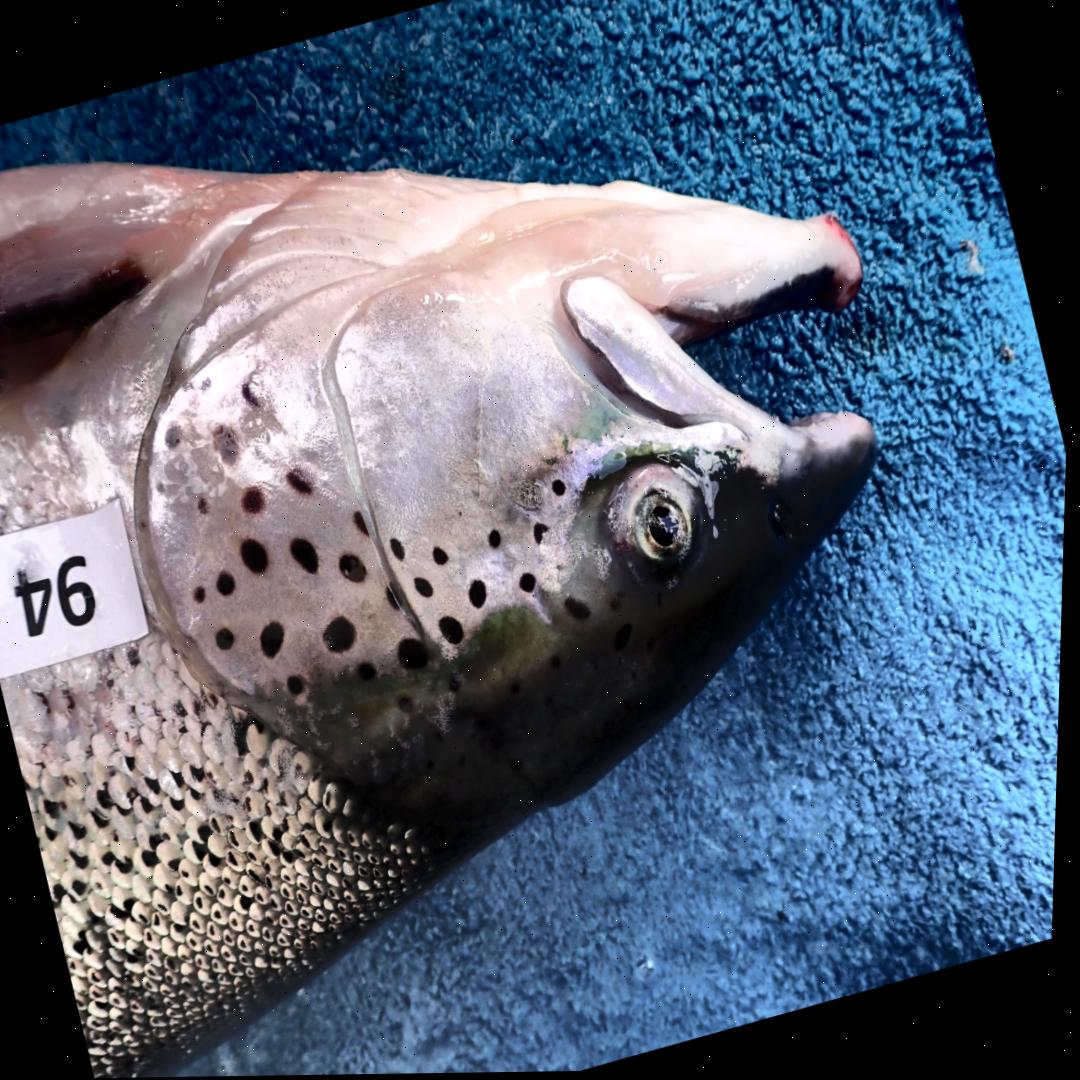spot: (213, 424, 244, 468), (326, 616, 359, 654), (292, 538, 321, 575), (401, 638, 432, 671), (243, 539, 271, 574), (263, 622, 287, 659), (341, 554, 369, 583), (288, 469, 316, 497), (441, 616, 466, 646), (243, 488, 267, 515), (218, 628, 239, 652), (472, 581, 490, 609), (242, 383, 261, 408), (219, 572, 238, 596), (164, 425, 183, 449), (388, 584, 403, 611), (354, 511, 370, 536), (360, 663, 380, 683), (417, 577, 435, 599), (392, 539, 408, 562), (535, 523, 550, 547), (290, 676, 307, 697), (523, 573, 539, 594), (490, 529, 504, 550), (199, 495, 212, 516), (435, 548, 450, 566), (554, 480, 568, 497), (196, 587, 208, 603)
